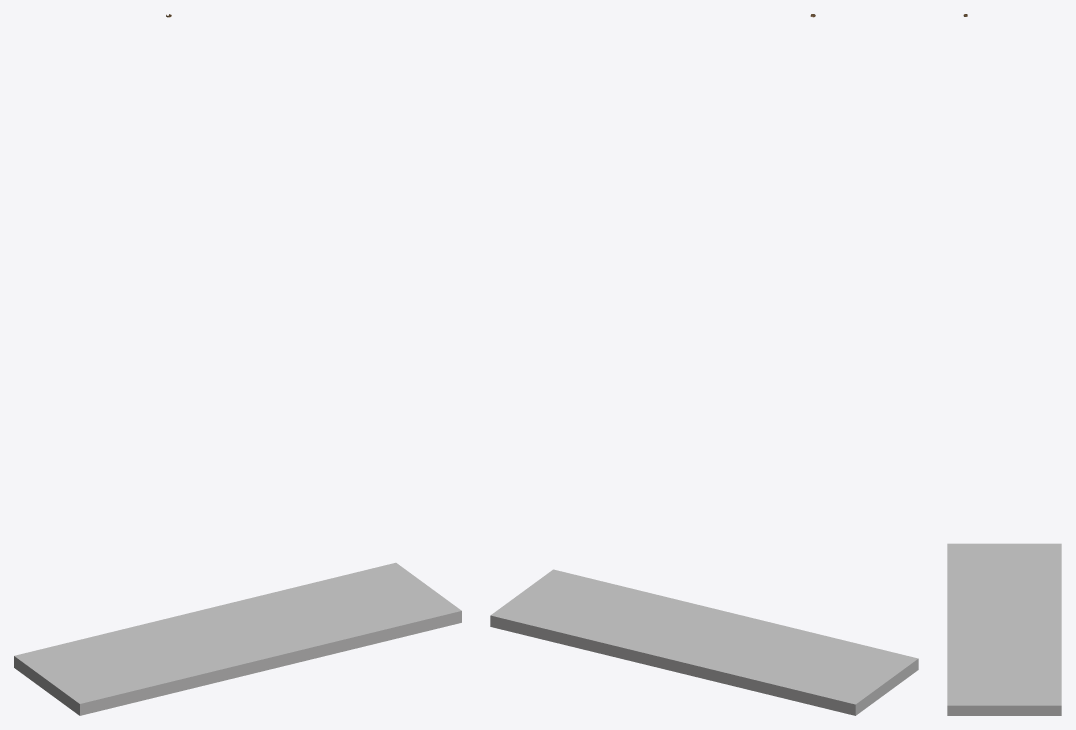
File: restaurant.fbx
3 renders of one model, left to right at view 1: azimuth 30°, elevation 25°; view 2: azimuth 150°, elevation 25°; view 3: azimuth 270°, elevation 25°, orthographic. The views are drawn at different scales.
Visible parts, largest first — view 1: Front_Wall_Invis; view 2: Front_Wall_Invis; view 3: Front_Wall_Invis.
Part boxes in pixels (<box>): Front_Wall_Invis: <box>14,562,461,715</box>; Front_Wall_Invis: <box>490,569,918,715</box>; Front_Wall_Invis: <box>947,543,1061,715</box>.
Size of the model in its own units: 335093 by 560405 by 100000.
